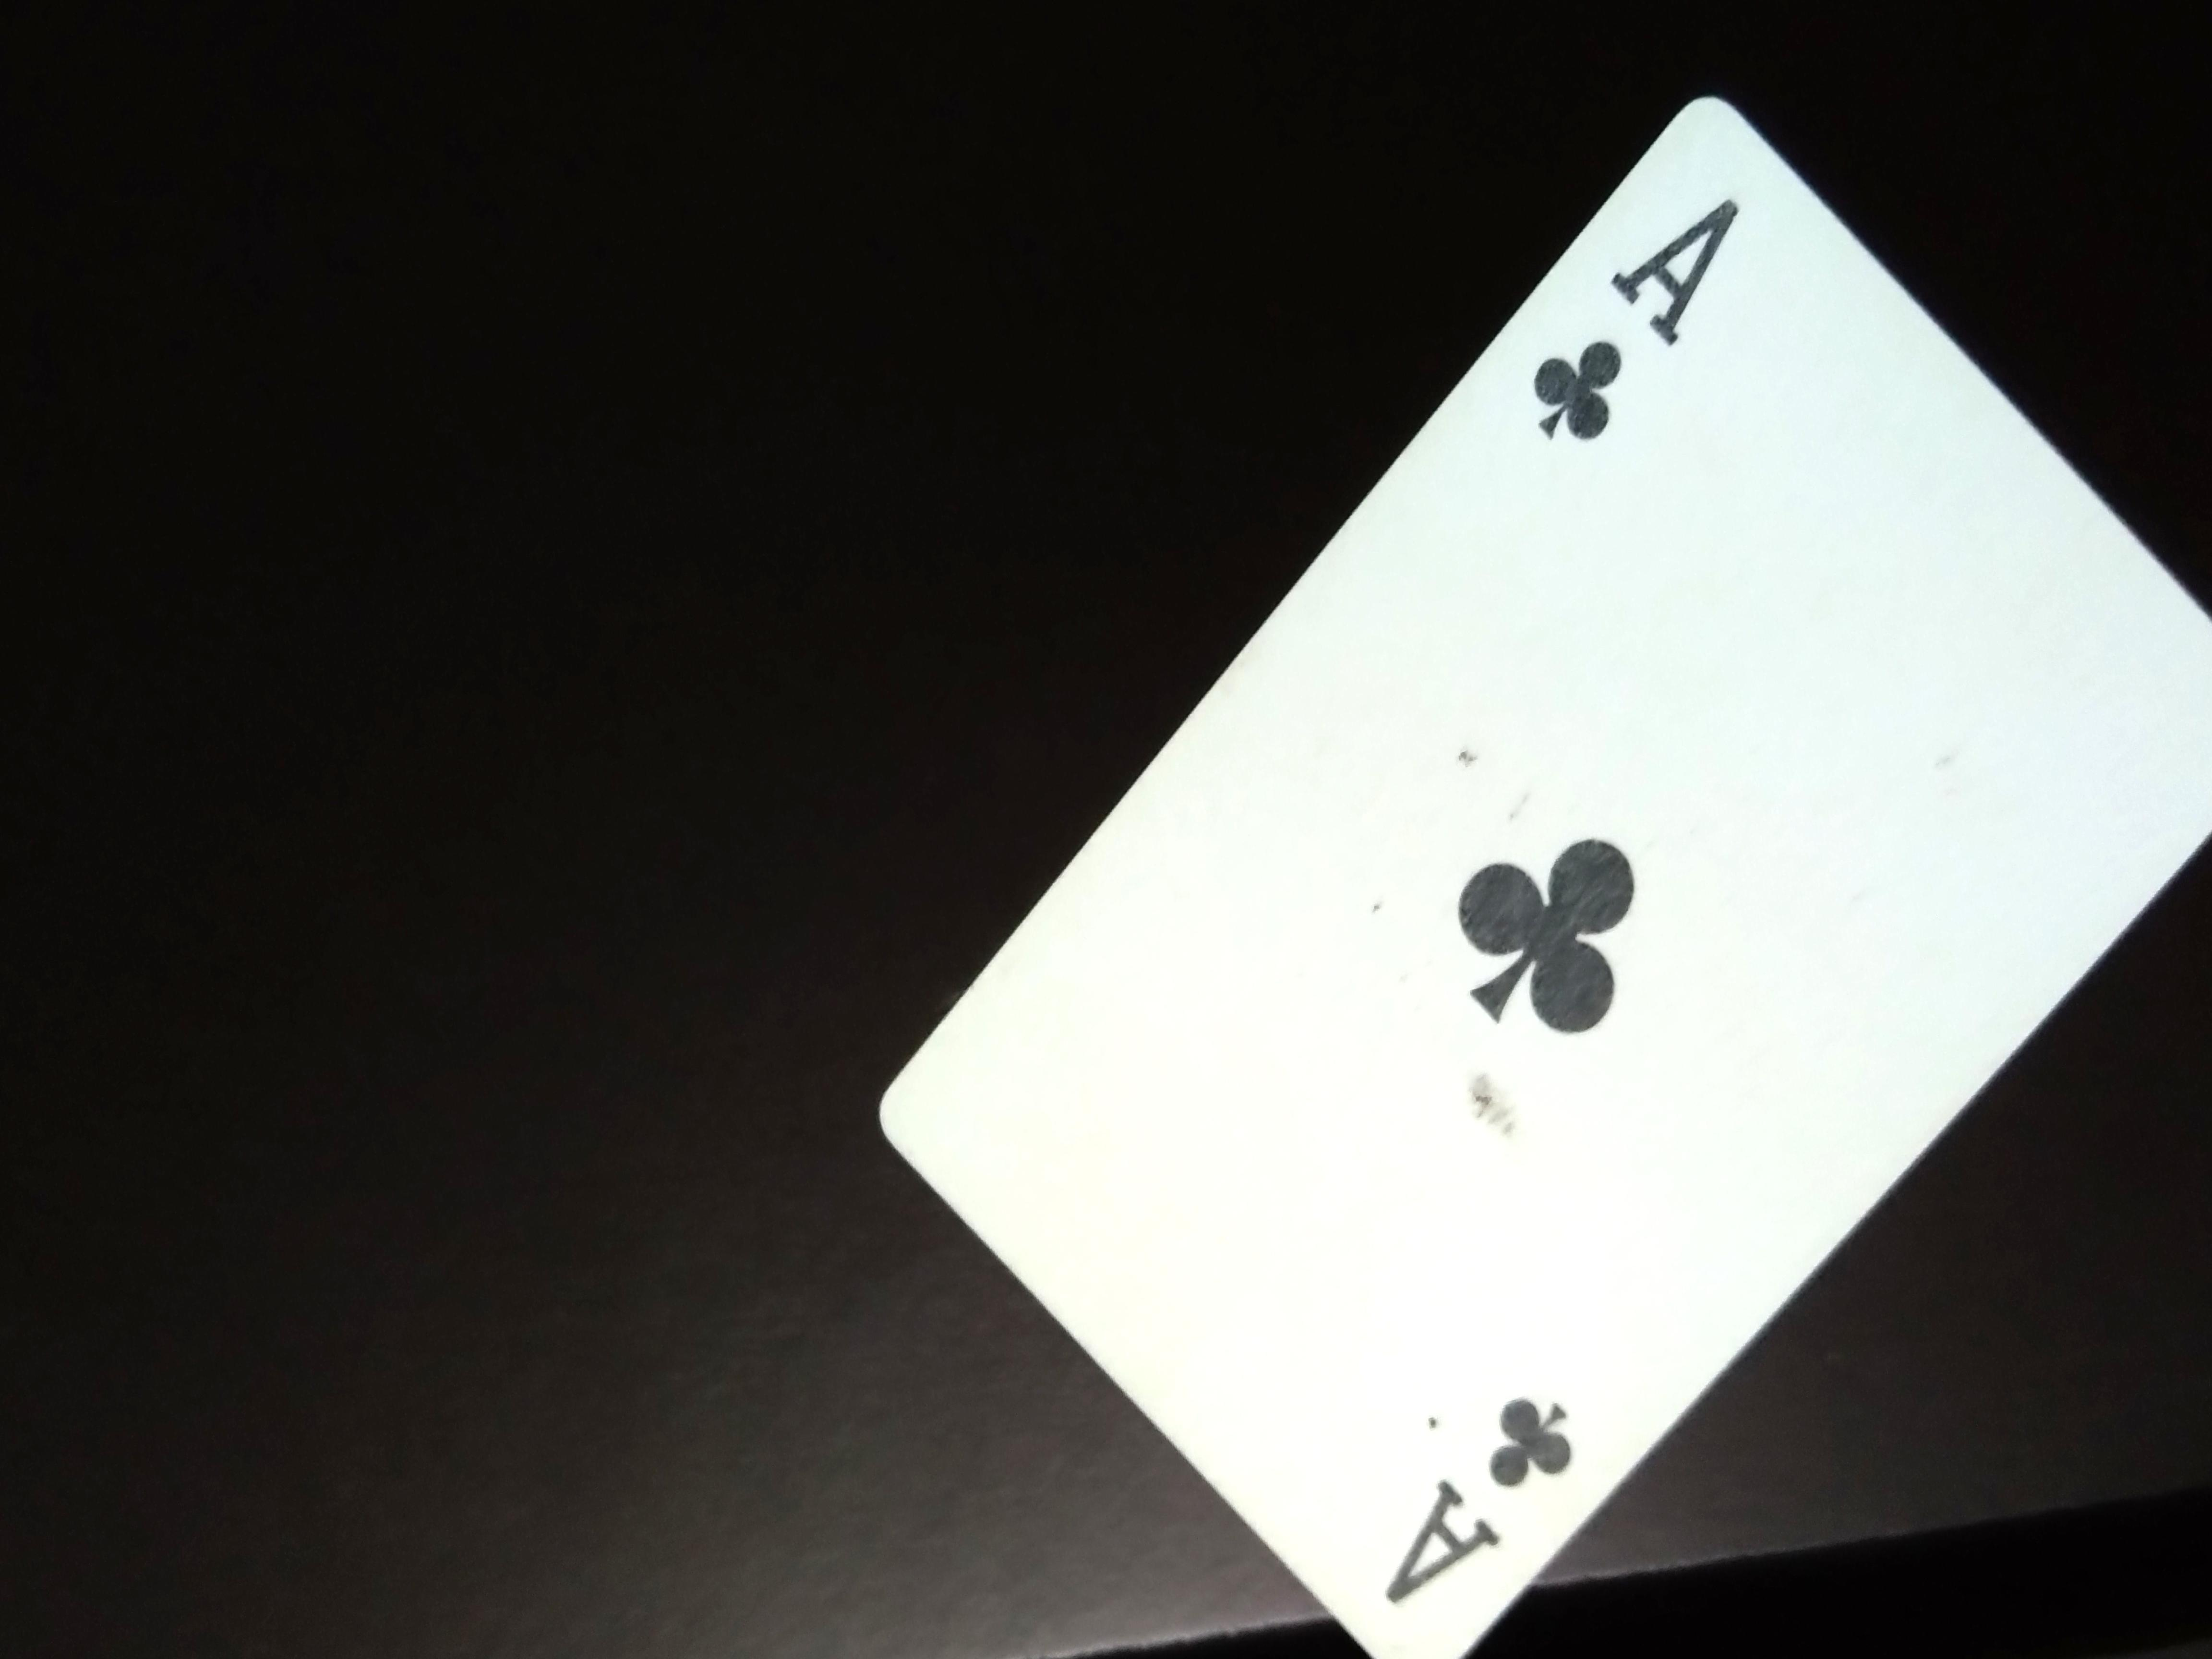AC: (1493, 176, 1756, 469)
